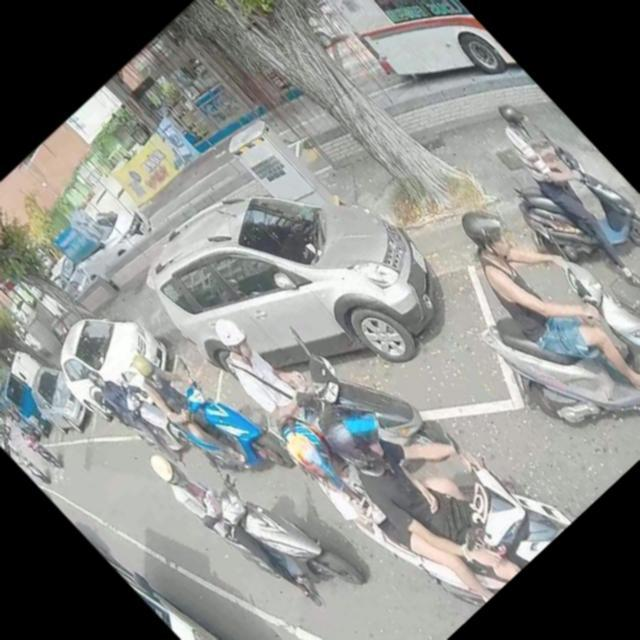person: (297, 342, 561, 614), (266, 366, 524, 632), (431, 175, 640, 432), (140, 425, 333, 628), (477, 91, 640, 285), (195, 300, 342, 452), (115, 327, 260, 478), (80, 360, 192, 477), (18, 426, 42, 451), (7, 442, 30, 466)
